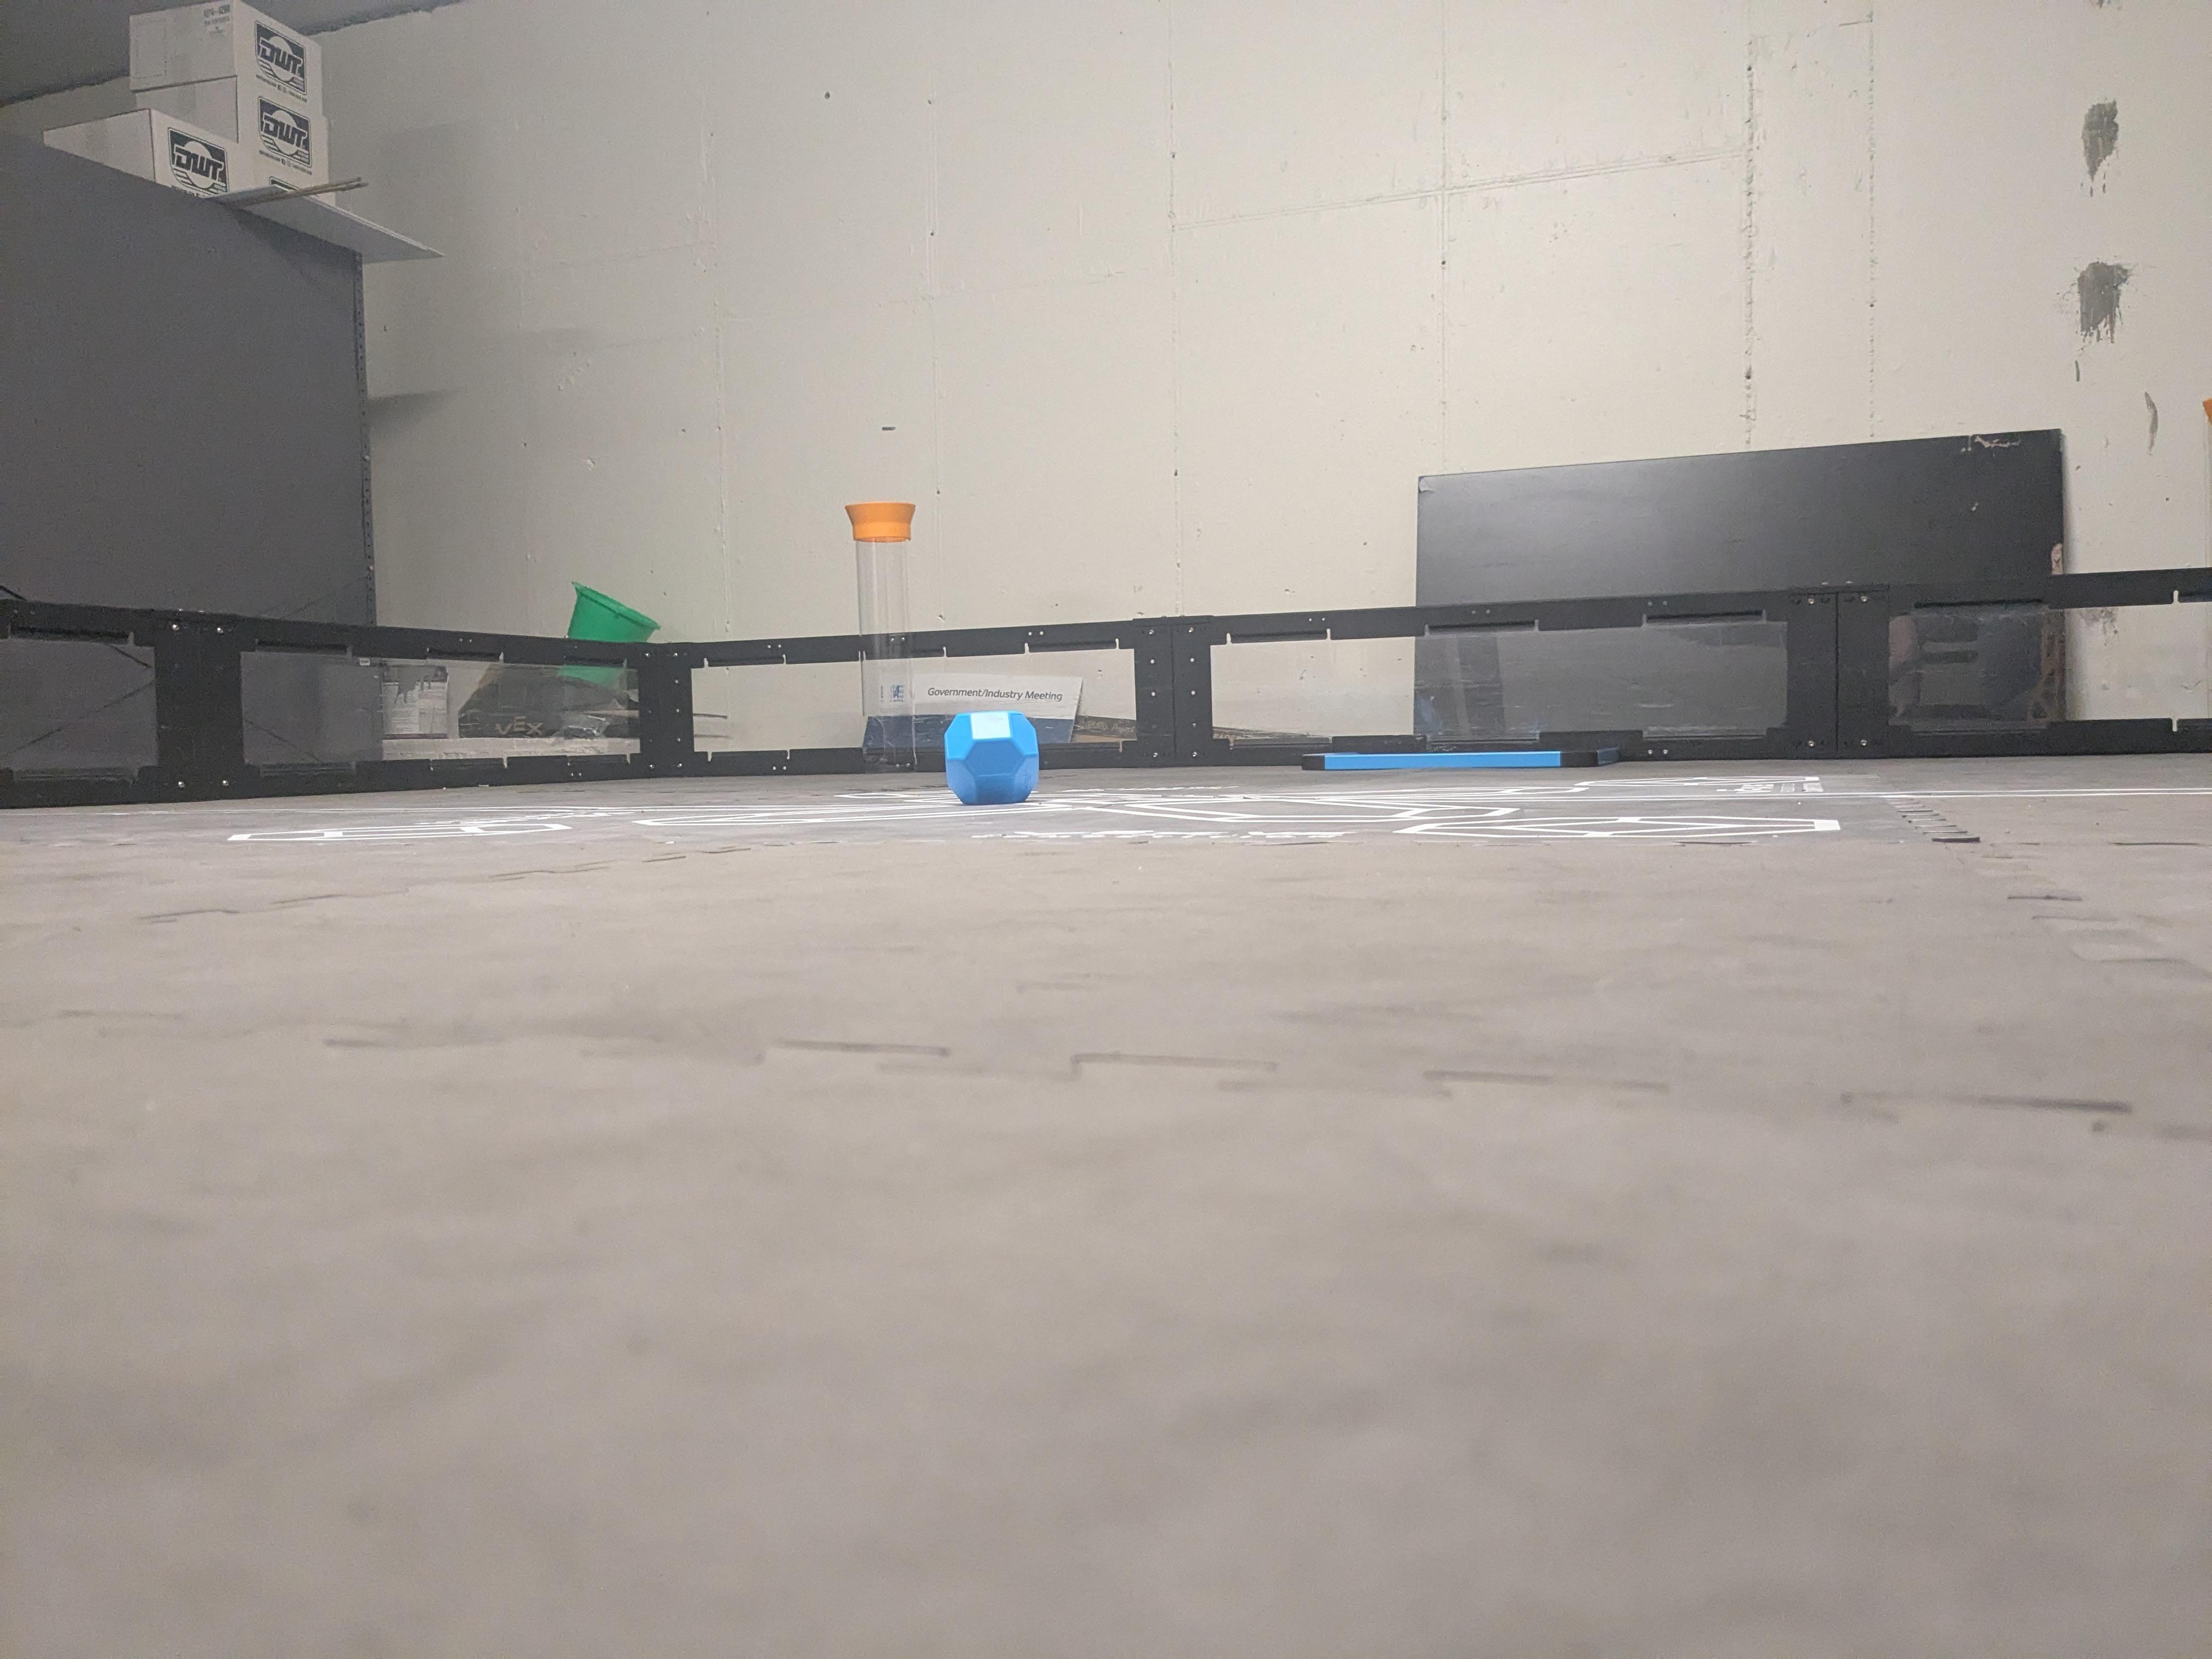Vex-Pieces-BLUE: (942, 716, 1036, 805)
